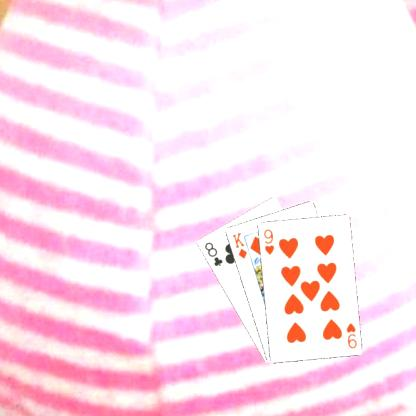8C: (202, 239, 224, 268)
9H: (260, 226, 275, 256), (343, 320, 358, 350)
KD: (229, 230, 248, 260)
